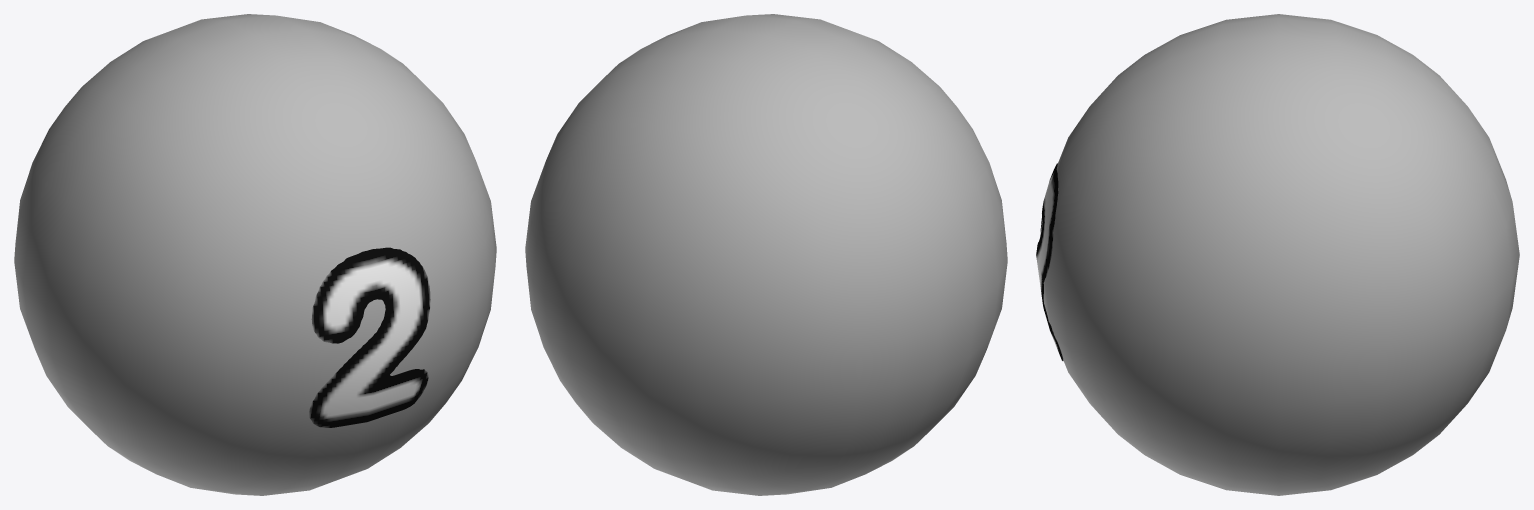
File: Ball 2.fbx
3 renders of one model, left to right at view 1: azimuth 30°, elevation 25°; view 2: azimuth 150°, elevation 25°; view 3: azimuth 270°, elevation 25°, orthographic.
Visible parts, largest first — view 1: Ball 2; view 2: Ball 2; view 3: Ball 2.
Boxes of the visible parts, <box> form: Ball 2: <box>14,14,496,495</box>; Ball 2: <box>525,14,1007,495</box>; Ball 2: <box>1036,14,1519,495</box>.
Size of the model in its own units: 164 by 164 by 164.
